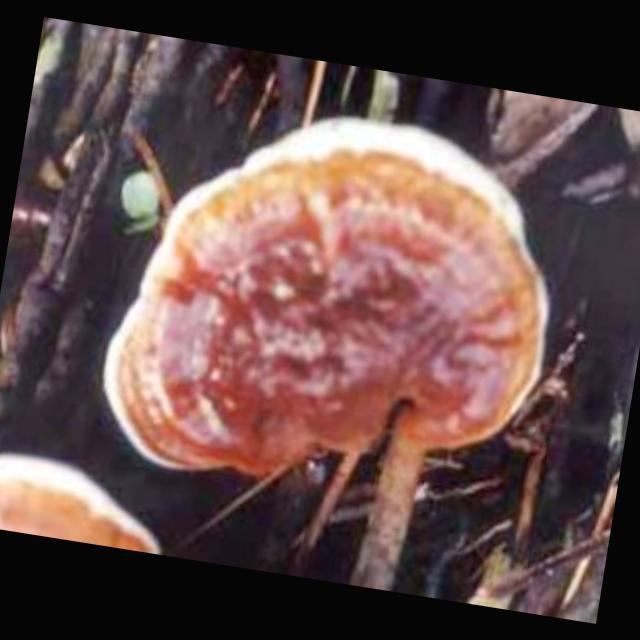ganoderma: (87, 82, 582, 529), (1, 444, 177, 556)
